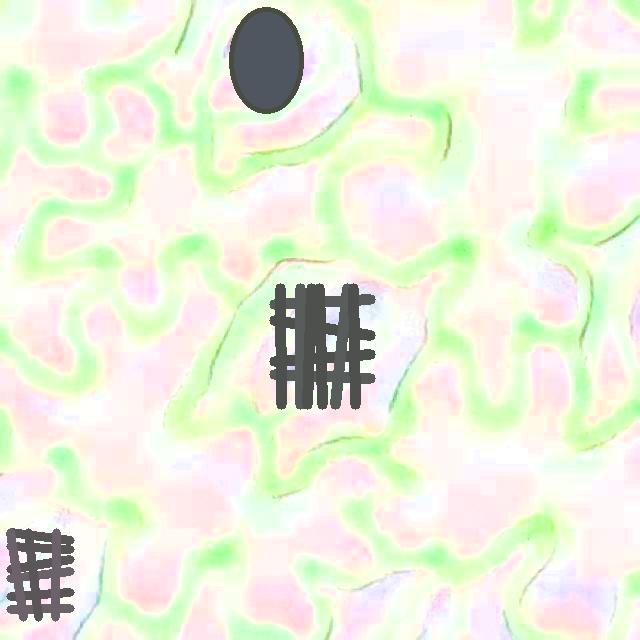close: (229, 7, 303, 113)
open: (270, 284, 374, 409), (6, 528, 74, 621)
